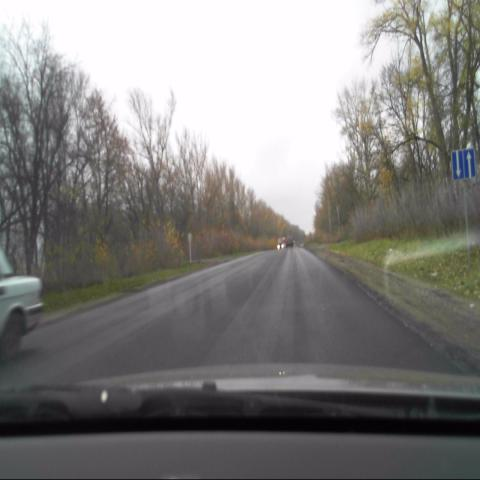5_15_7: (450, 150, 475, 182)
